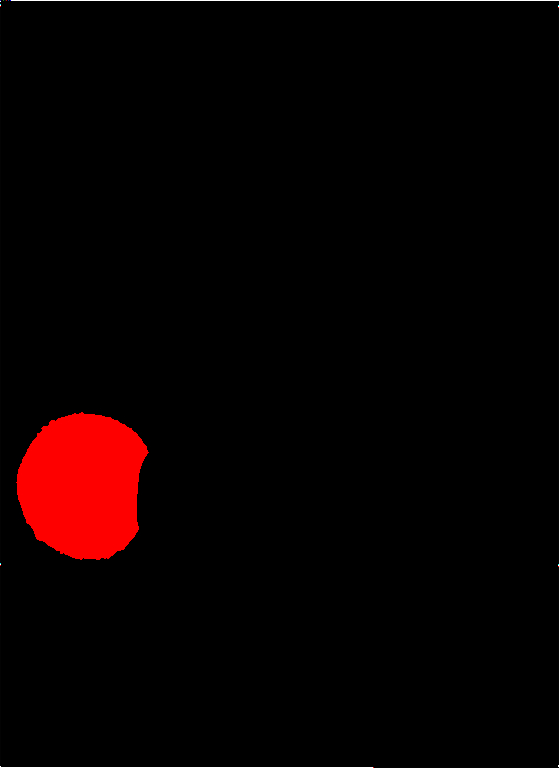stamp: (21, 414, 145, 557)
